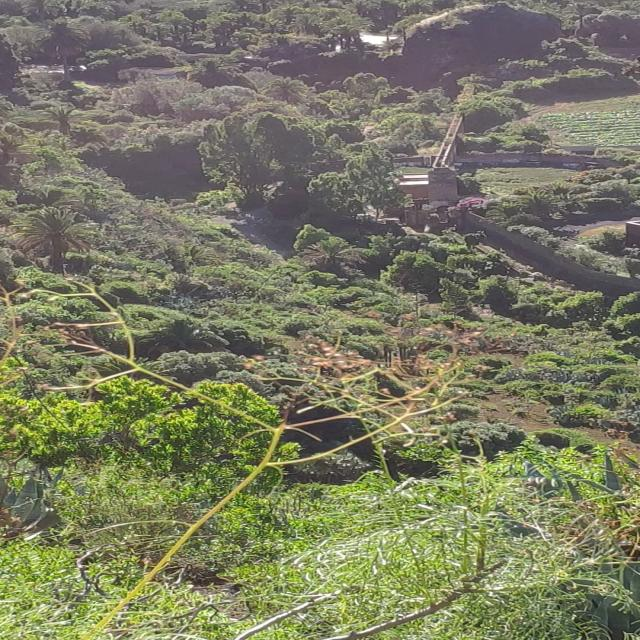Palm-Trees: (15, 212, 94, 272), (298, 240, 364, 269), (262, 78, 310, 104)
